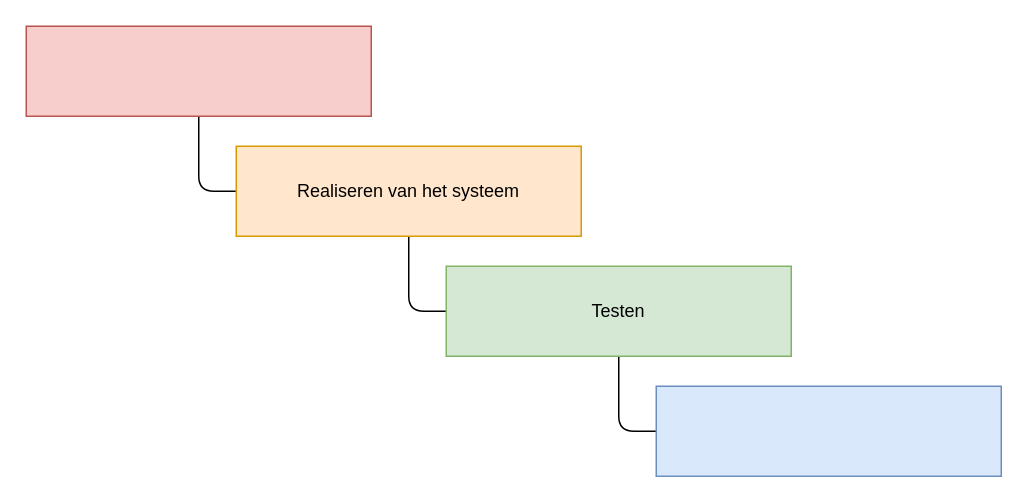
Some shapes in this 1028 by 503 pixel diagram are drawn without their labels. Here are the shapes that lost their labels. From the top down, the box of each, then its label:
(25, 25, 371, 116): Documentatie
(655, 385, 1001, 476): Inleveren
